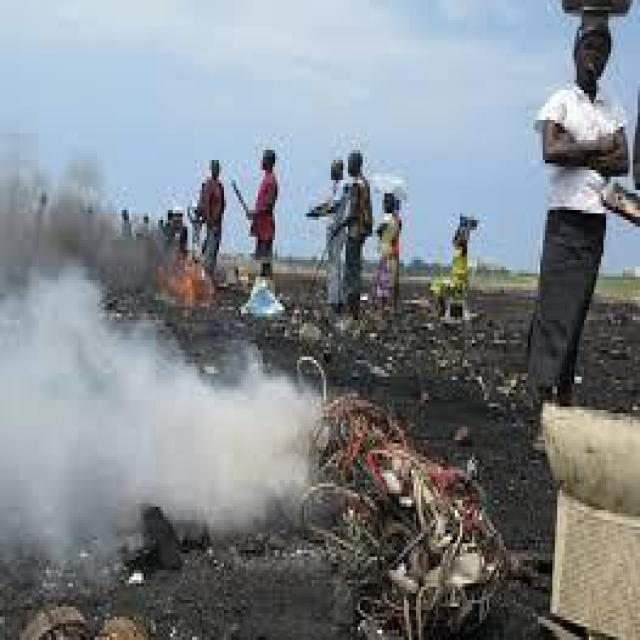Smoke: (2, 262, 326, 586)
